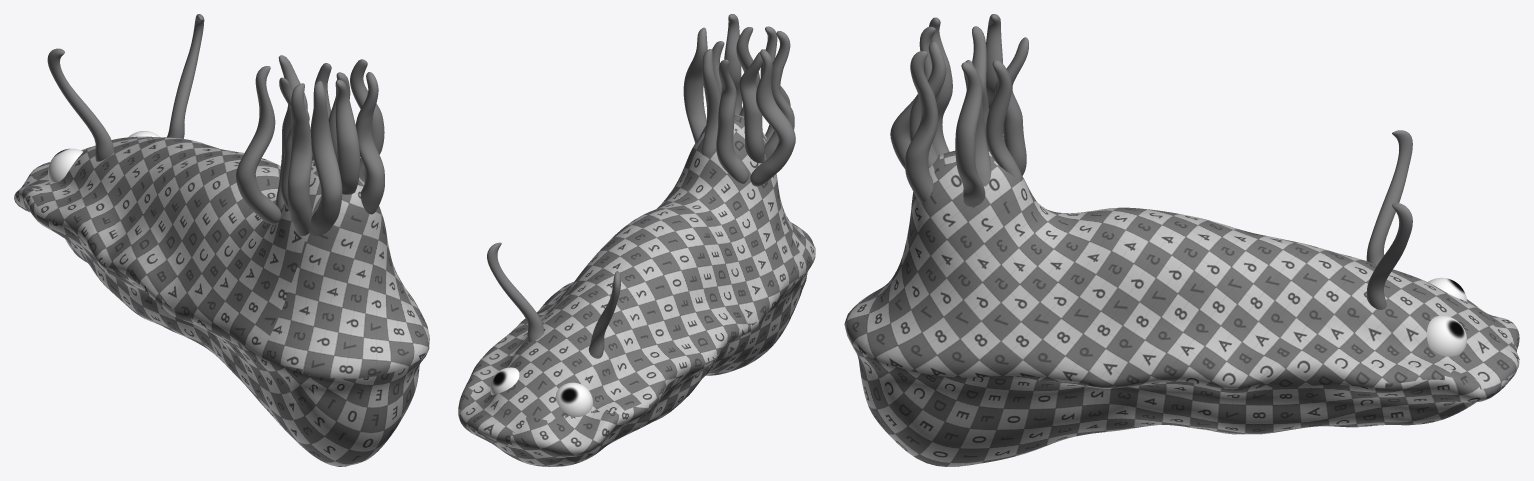
The model's file is sea_low.fbx.
3 views of the same model, side by side, from view 1: azimuth 30°, elevation 25°; view 2: azimuth 150°, elevation 25°; view 3: azimuth 270°, elevation 25° (orthographic). The views are drawn at different scales.
Visible parts, largest first — view 1: body_low, trail_low, tuno_low, eyes_low; view 2: body_low, trail_low, tuno_low, eyes_low; view 3: body_low, trail_low, tuno_low, eyes_low.
Boxes of the visible parts, x1=… form: body_low: x1=14, y1=136, x2=429, y2=466; trail_low: x1=236, y1=55, x2=384, y2=236; tuno_low: x1=47, y1=14, x2=204, y2=161; eyes_low: x1=48, y1=131, x2=159, y2=182; body_low: x1=458, y1=115, x2=815, y2=466; trail_low: x1=683, y1=14, x2=795, y2=186; tuno_low: x1=487, y1=242, x2=620, y2=358; eyes_low: x1=490, y1=367, x2=592, y2=416; body_low: x1=844, y1=151, x2=1519, y2=466; trail_low: x1=890, y1=14, x2=1028, y2=206; tuno_low: x1=1366, y1=130, x2=1412, y2=309; eyes_low: x1=1426, y1=277, x2=1467, y2=356.
Size of the model in its own units: 2.8 by 5.05 by 7.33.
